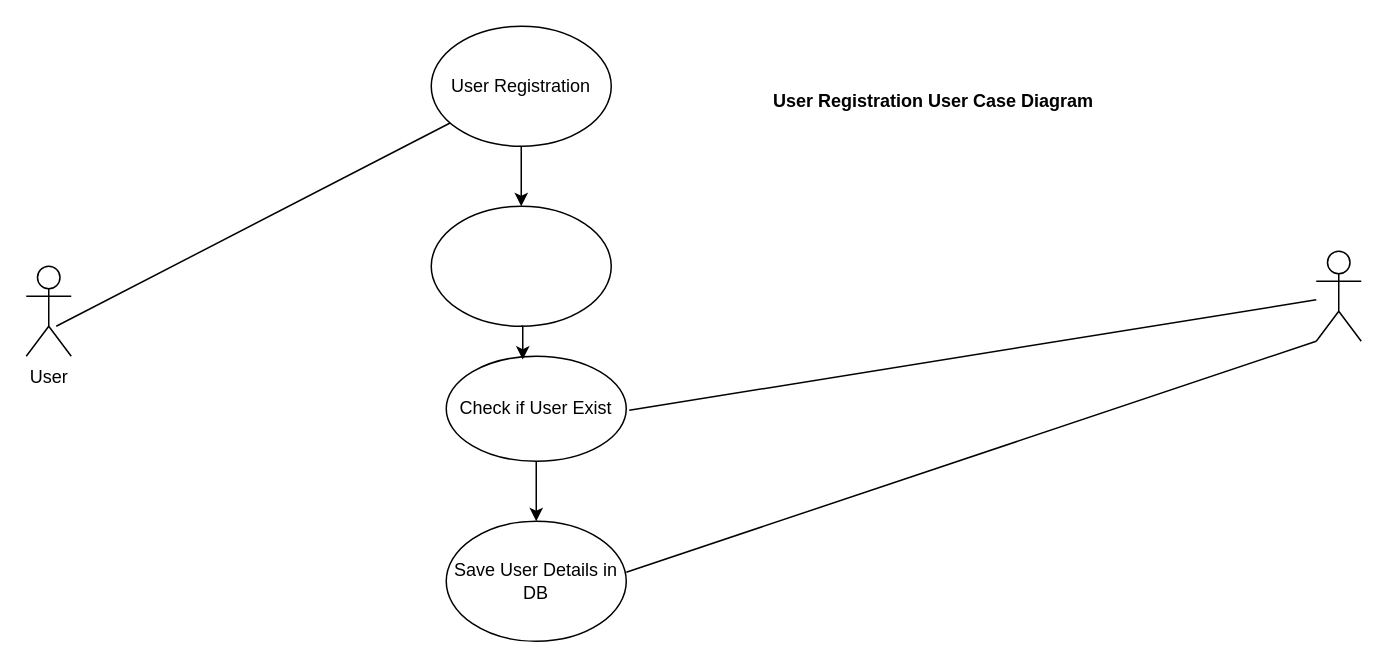
The diagram is 1395 pixels wide and 668 high, and some of its shapes have lost their labels. The shapes that lost their labels are listed below. From the top down, each one's box as (x1, y1, x2, y2) in pixels, then its label:
(430, 205, 611, 326): Enter User Details
(1315, 250, 1361, 341): System
